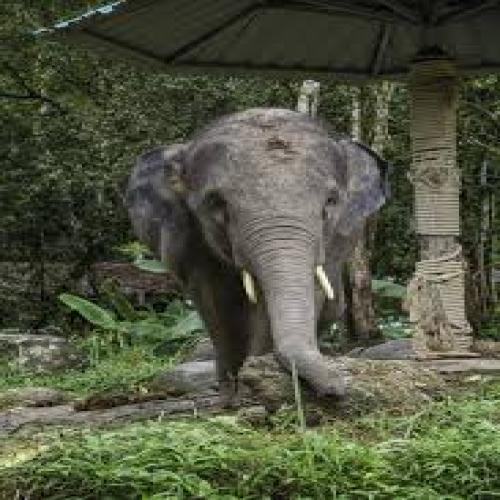asian_elephant-endangered: (126, 107, 386, 398)
